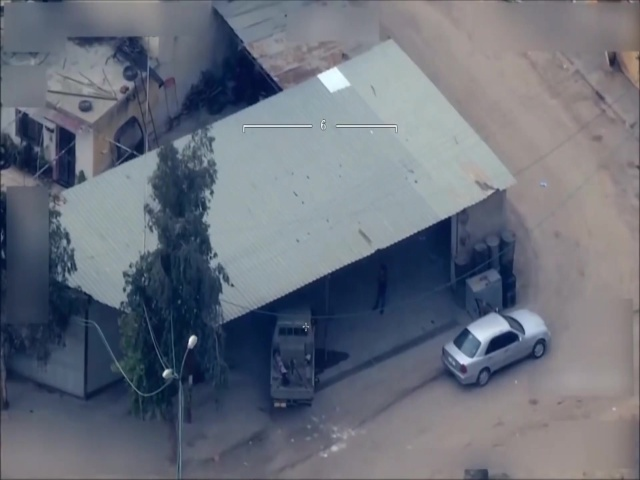person: (374, 263, 392, 317)
vehicle: (440, 306, 553, 385), (269, 301, 320, 413)
